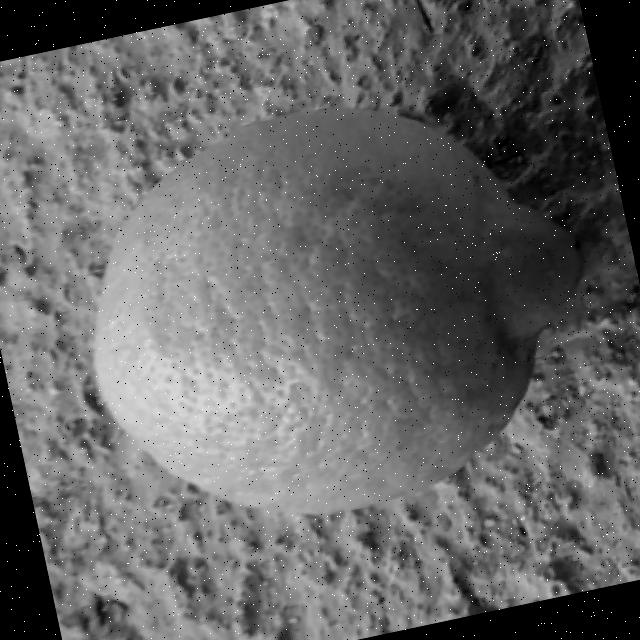Ripe: (44, 51, 628, 564)
